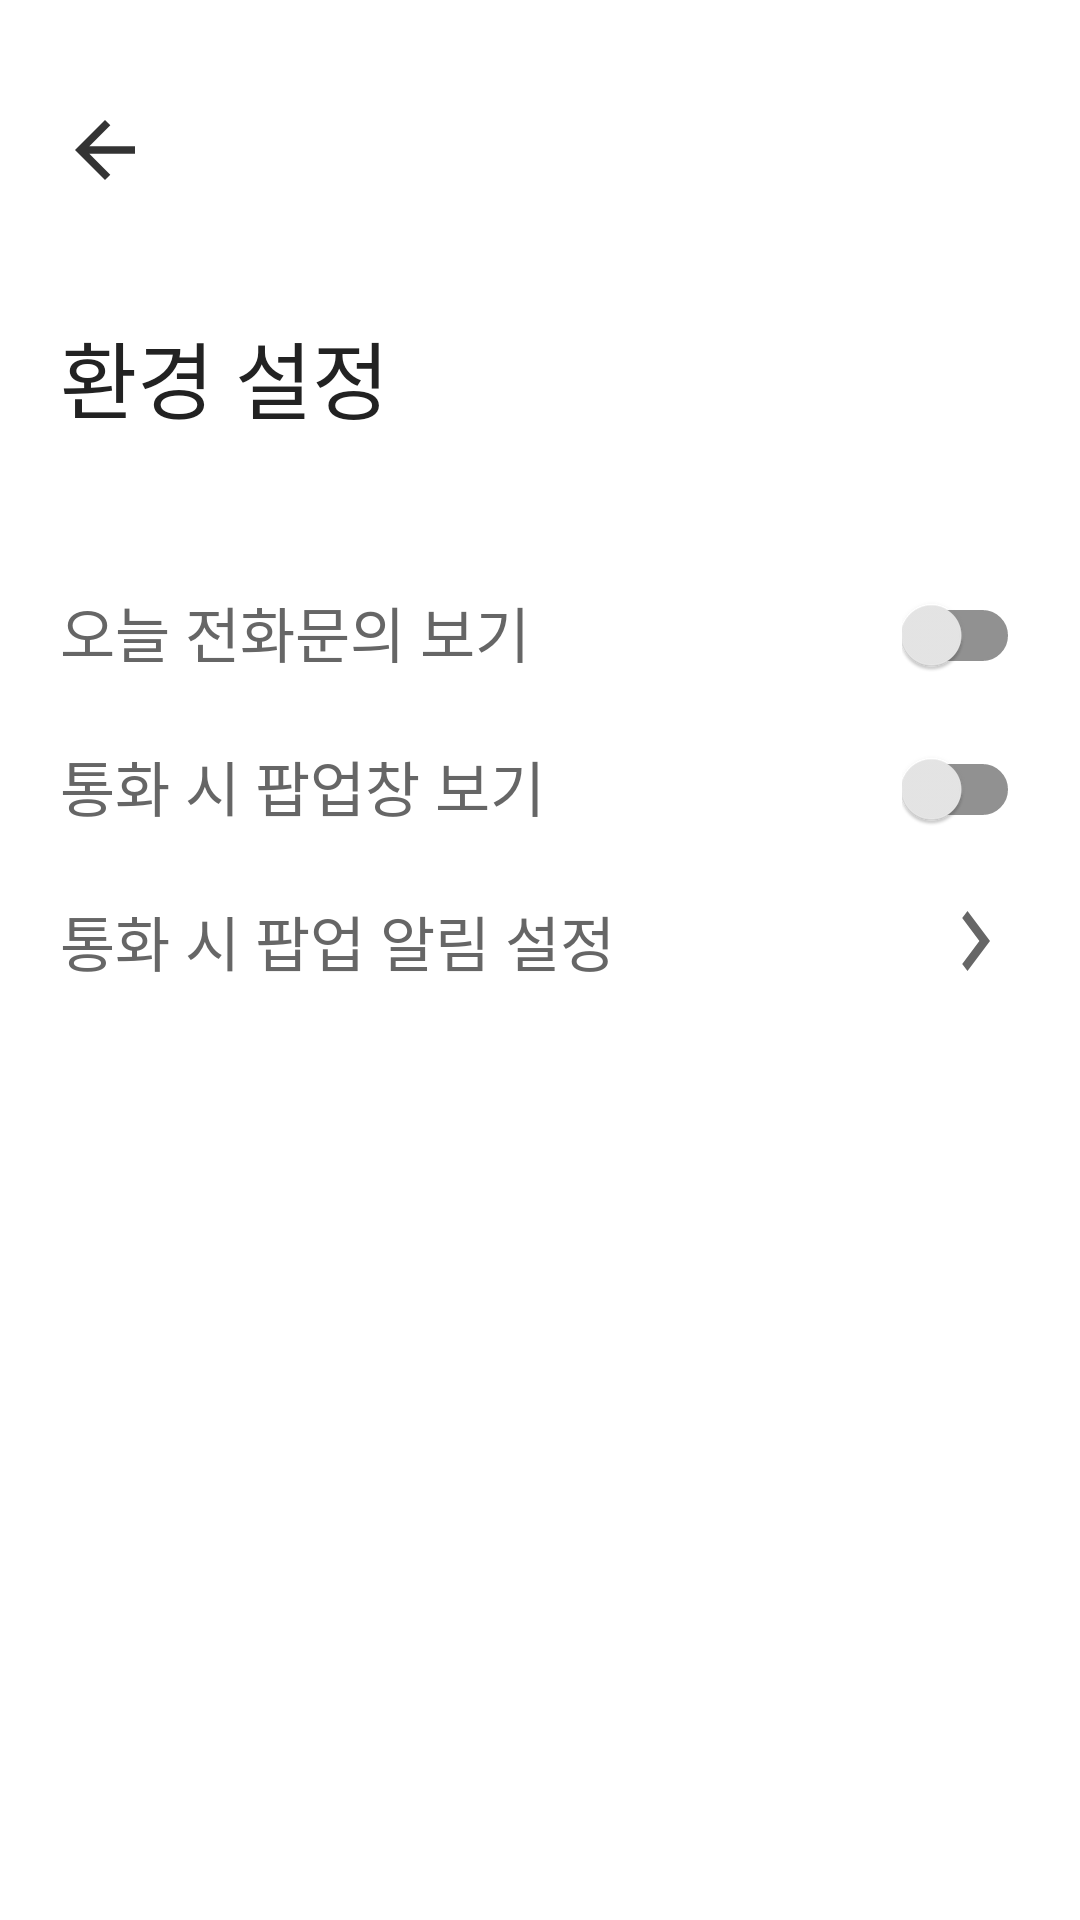

Where icons sit on this 1080×1920 app screen, as bbox(x1, y1, x2, y2):
arrow back: bbox(75, 120, 135, 180)
navigate next: bbox(962, 911, 990, 971)
